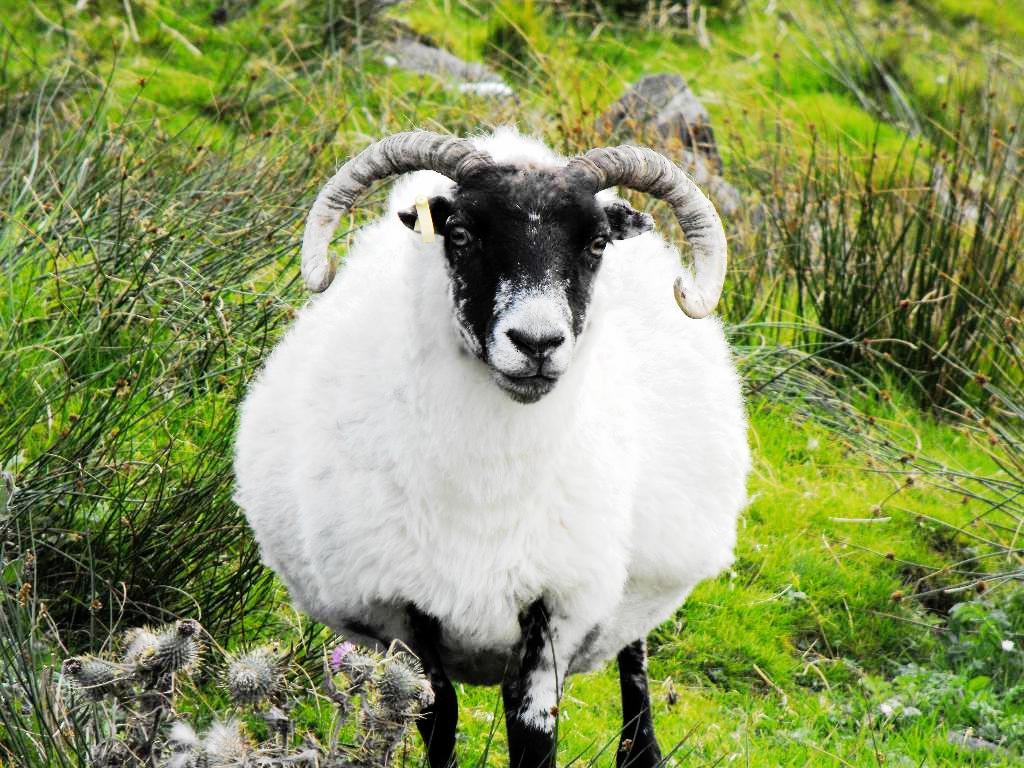Sheep: (230, 114, 760, 768)
